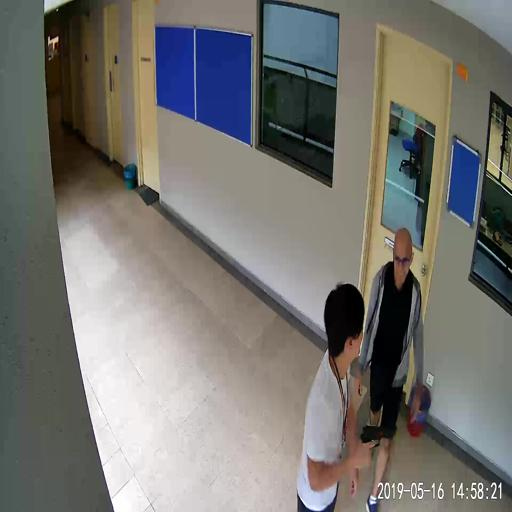pistol: (361, 424, 396, 463)
